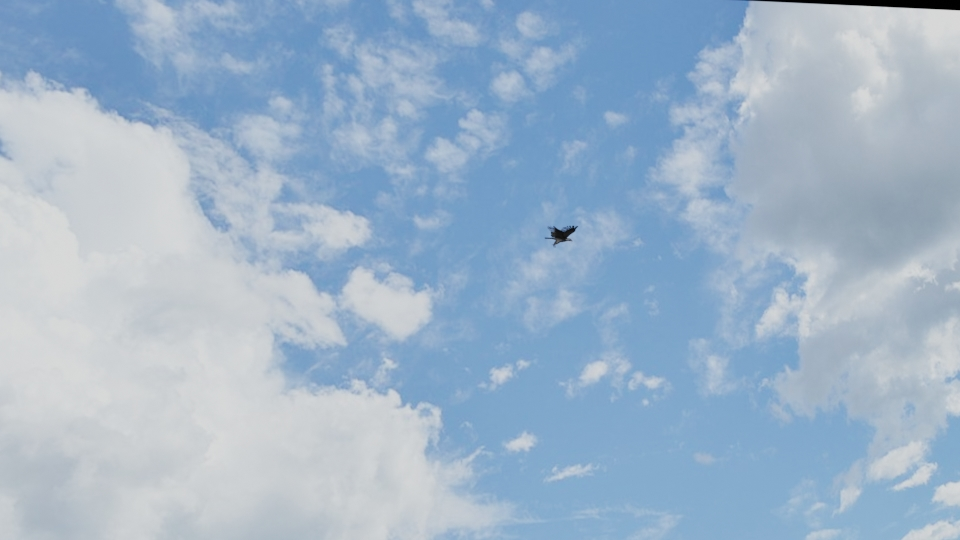bird: (543, 219, 581, 245)
